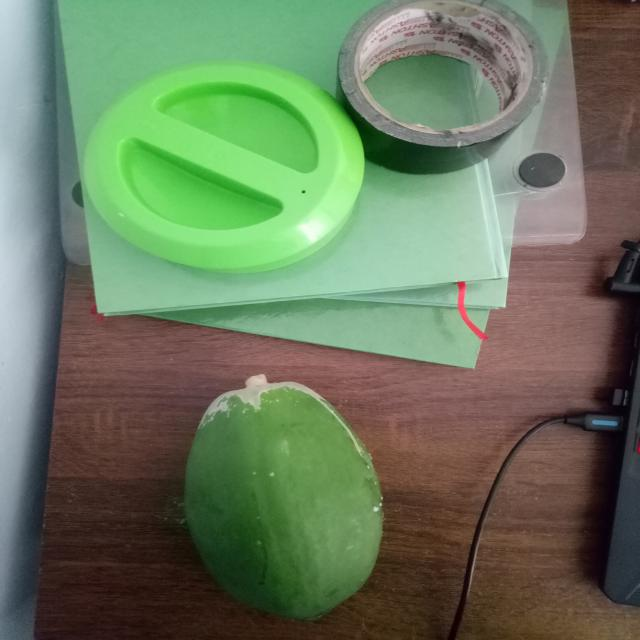Pepaya unrippen: (173, 376, 398, 623)
